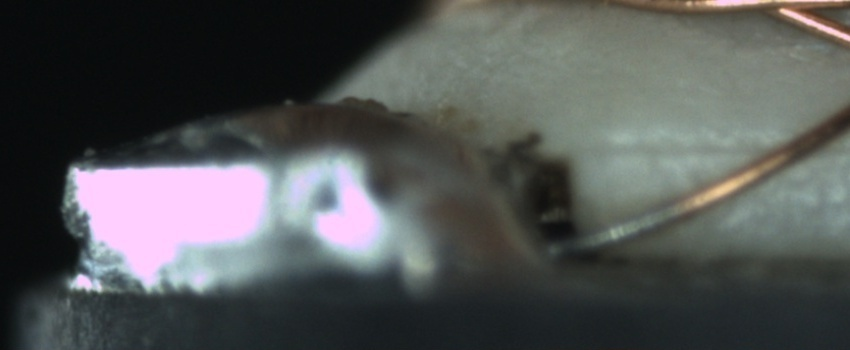DL: (607, 115, 849, 183)
TS: (552, 203, 678, 257)
